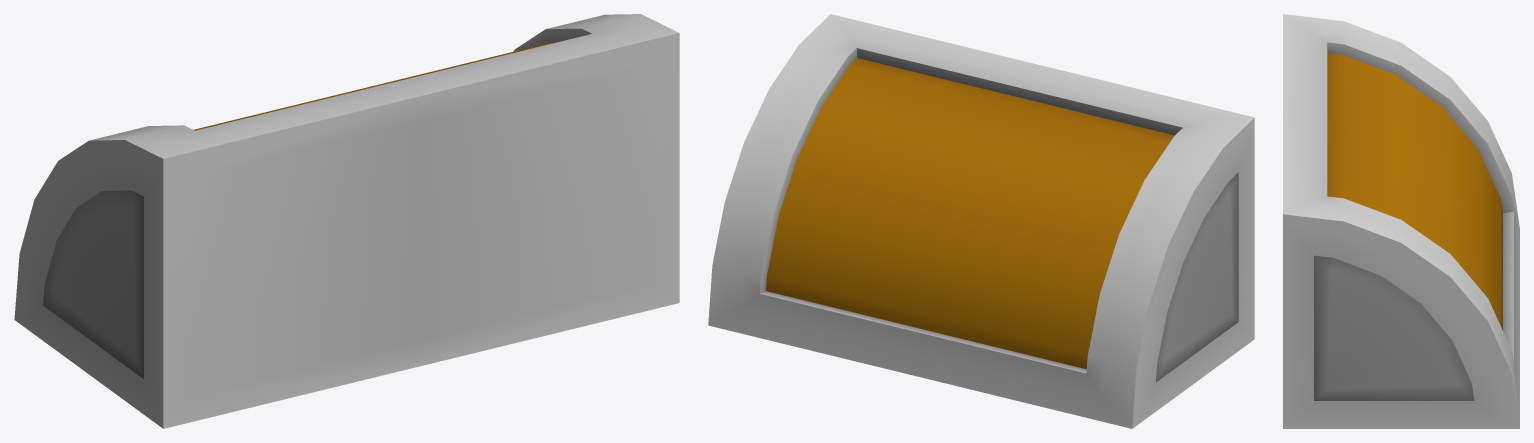
The model's file is obj_dekotora_roundedlight.fbx.
3 renders of one model, left to right at view 1: azimuth 30°, elevation 25°; view 2: azimuth 150°, elevation 25°; view 3: azimuth 270°, elevation 25°, orthographic. The views are drawn at different scales.
Visible parts, largest first — view 1: Cube.035; view 2: Cube.035; view 3: Cube.035.
Part boxes in pixels (x1,y1,x2,y2): Cube.035: (14, 14, 679, 428); Cube.035: (708, 14, 1254, 428); Cube.035: (1283, 14, 1519, 428).
Bounding box in the file's own units: 4 × 2 × 2.
